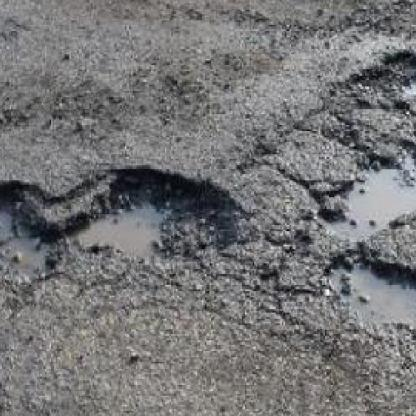pothole: (62, 159, 241, 274), (317, 250, 416, 361), (302, 141, 416, 237), (0, 174, 64, 292), (350, 47, 416, 121)
